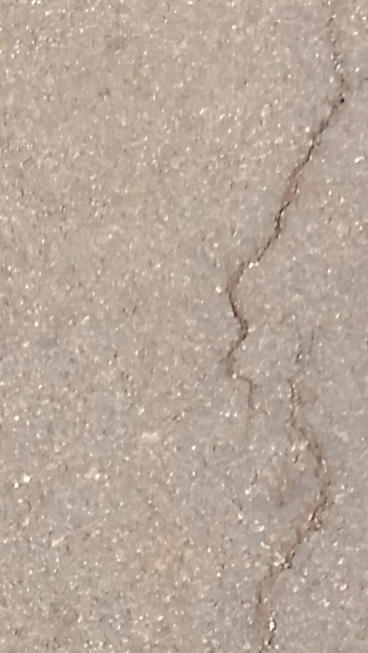A: (216, 1, 367, 639)
